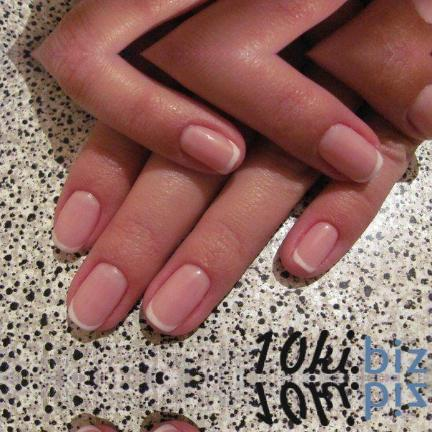Nail: (146, 263, 210, 333), (68, 262, 127, 331), (318, 124, 383, 183), (179, 125, 240, 176), (52, 190, 101, 253), (292, 222, 338, 273), (406, 84, 431, 140), (409, 0, 431, 24), (154, 423, 182, 432), (75, 425, 103, 432)
